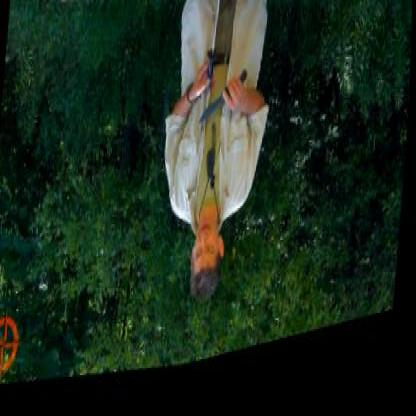knife: (198, 74, 252, 143)
